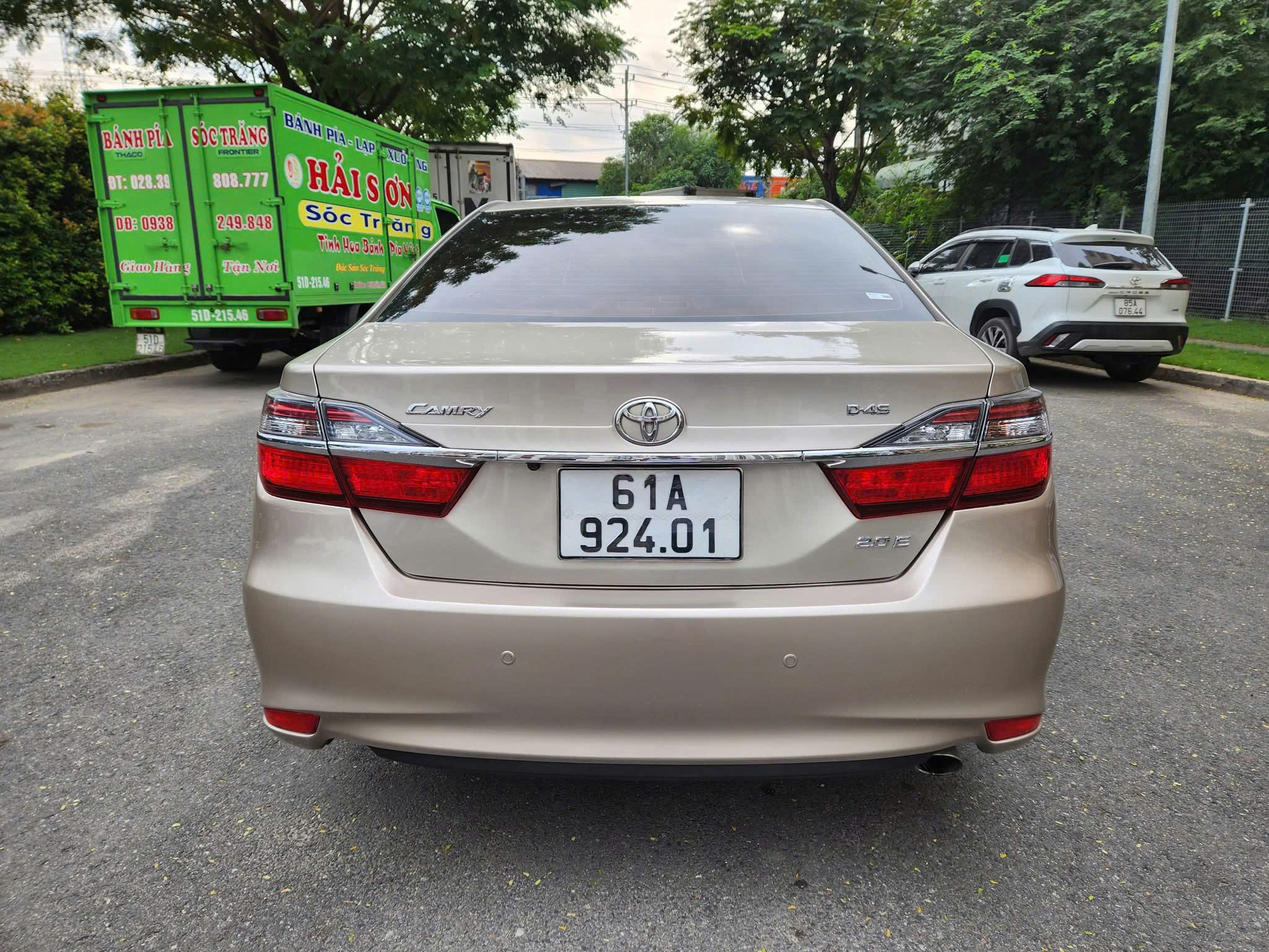Bien-so: (558, 467, 745, 560), (136, 330, 167, 359), (1112, 290, 1143, 318)
